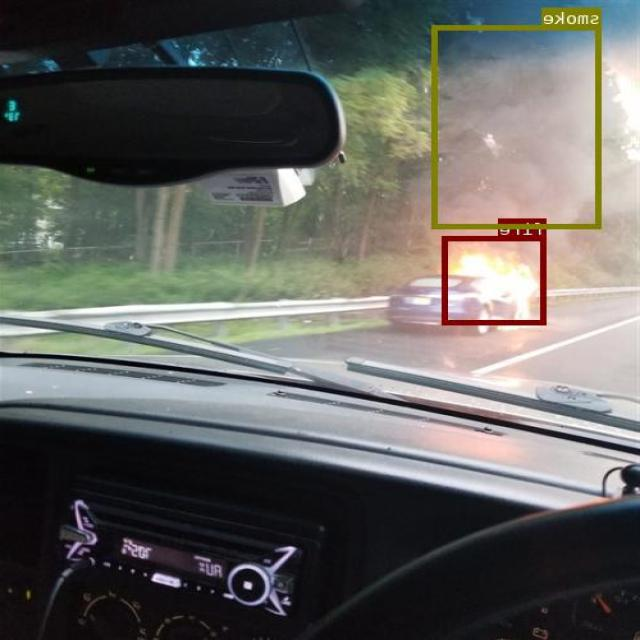fire: (443, 235, 547, 323)
smoke: (433, 24, 603, 228)
